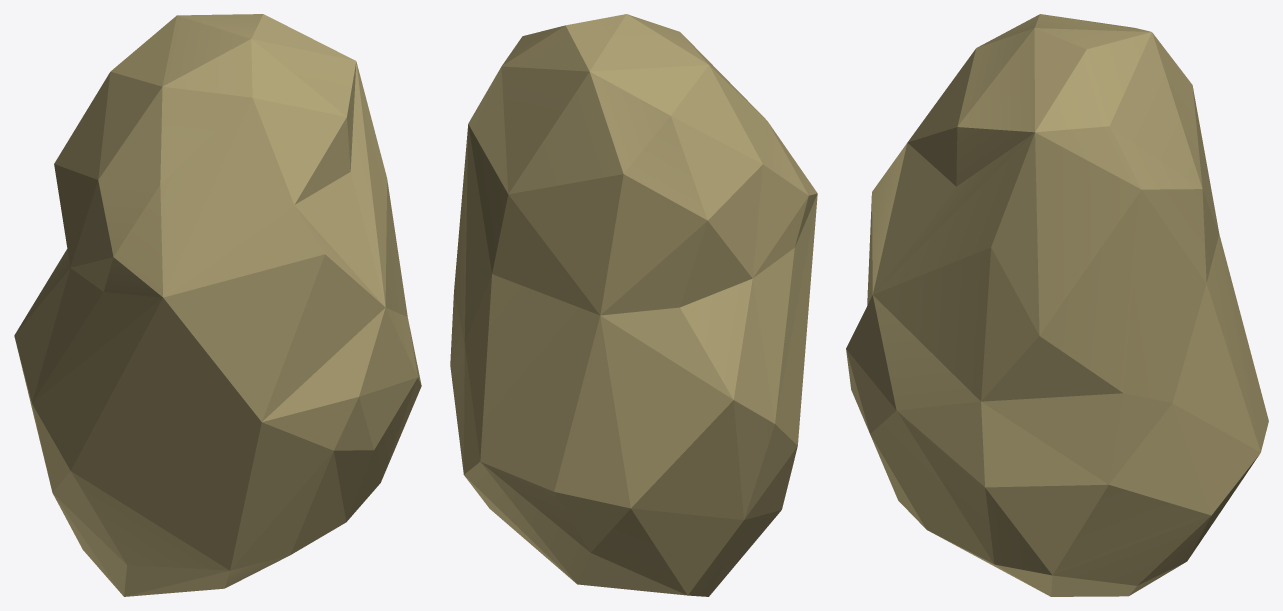
Rendered from SM_small_rock_40.fbx.
3 views of the same model, side by side, from view 1: azimuth 30°, elevation 25°; view 2: azimuth 150°, elevation 25°; view 3: azimuth 270°, elevation 25° (orthographic). The views are drawn at different scales.
Parts seen in each view (by area): view 1: small_rock_40; view 2: small_rock_40; view 3: small_rock_40.
Boxes of the visible parts, left/top/right/bottom form: small_rock_40: left=14, top=14, right=421, bottom=596; small_rock_40: left=450, top=14, right=817, bottom=596; small_rock_40: left=846, top=14, right=1268, bottom=596.
Bounding box in the file's own units: 88.62 × 141 × 93.19.
